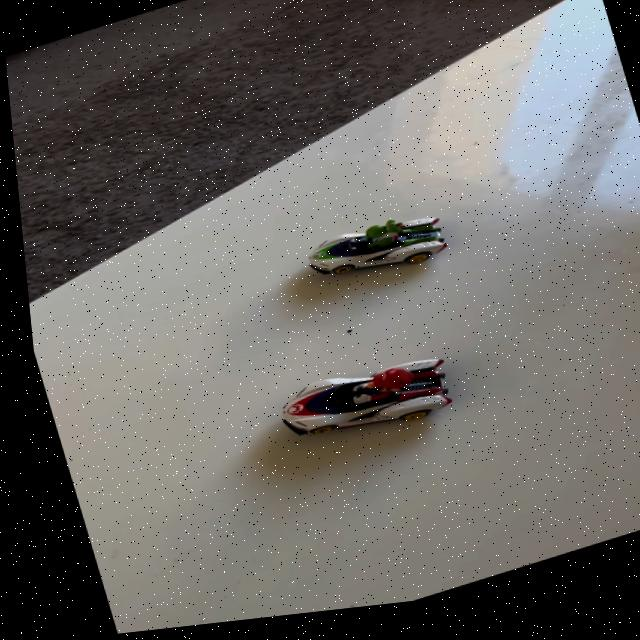mario: (261, 346, 455, 472)
yoshi: (286, 204, 461, 304)
